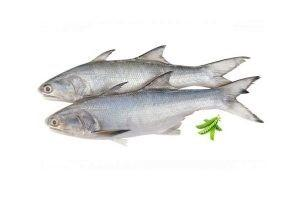Mullet: (44, 72, 266, 147), (39, 44, 250, 103)
